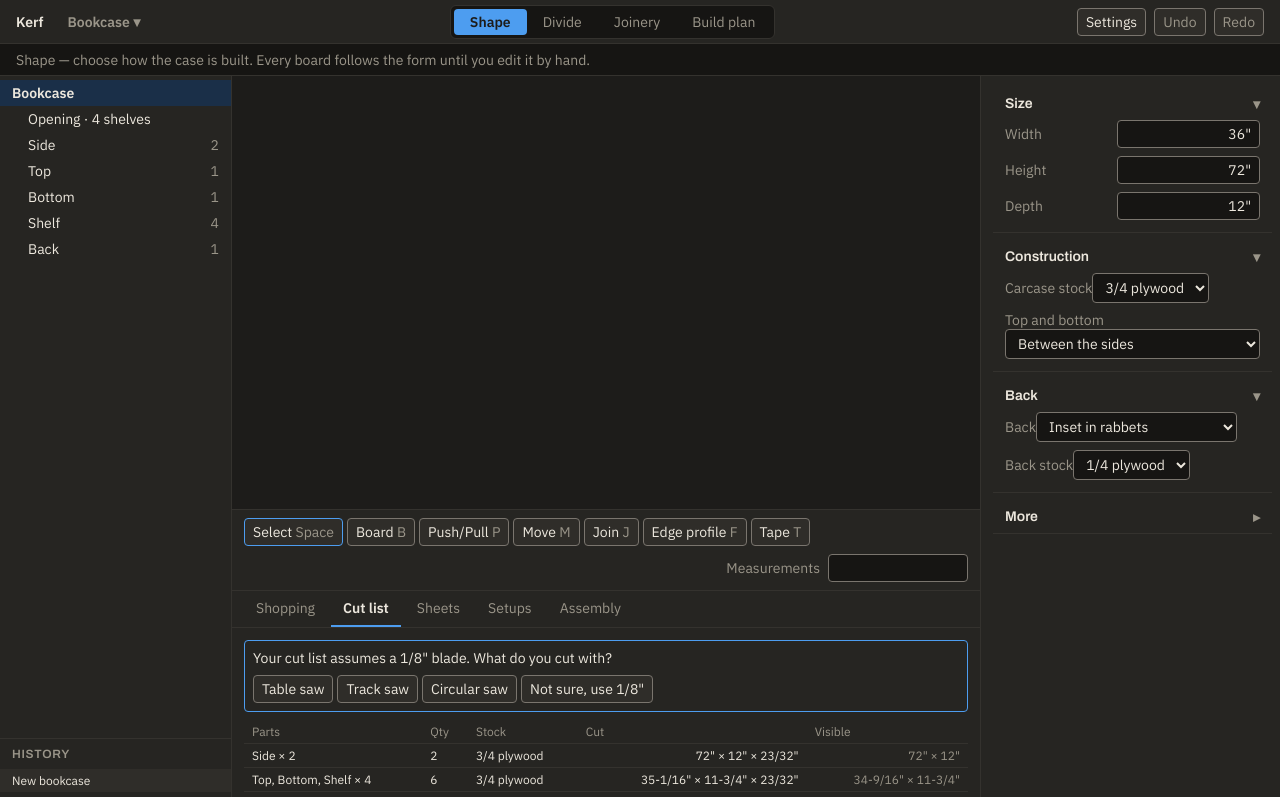
it: <App> › moves to Divide and shows what Divide is for
Step 1. Click the button "Divide" → (562, 22), box [527, 8, 598, 34]
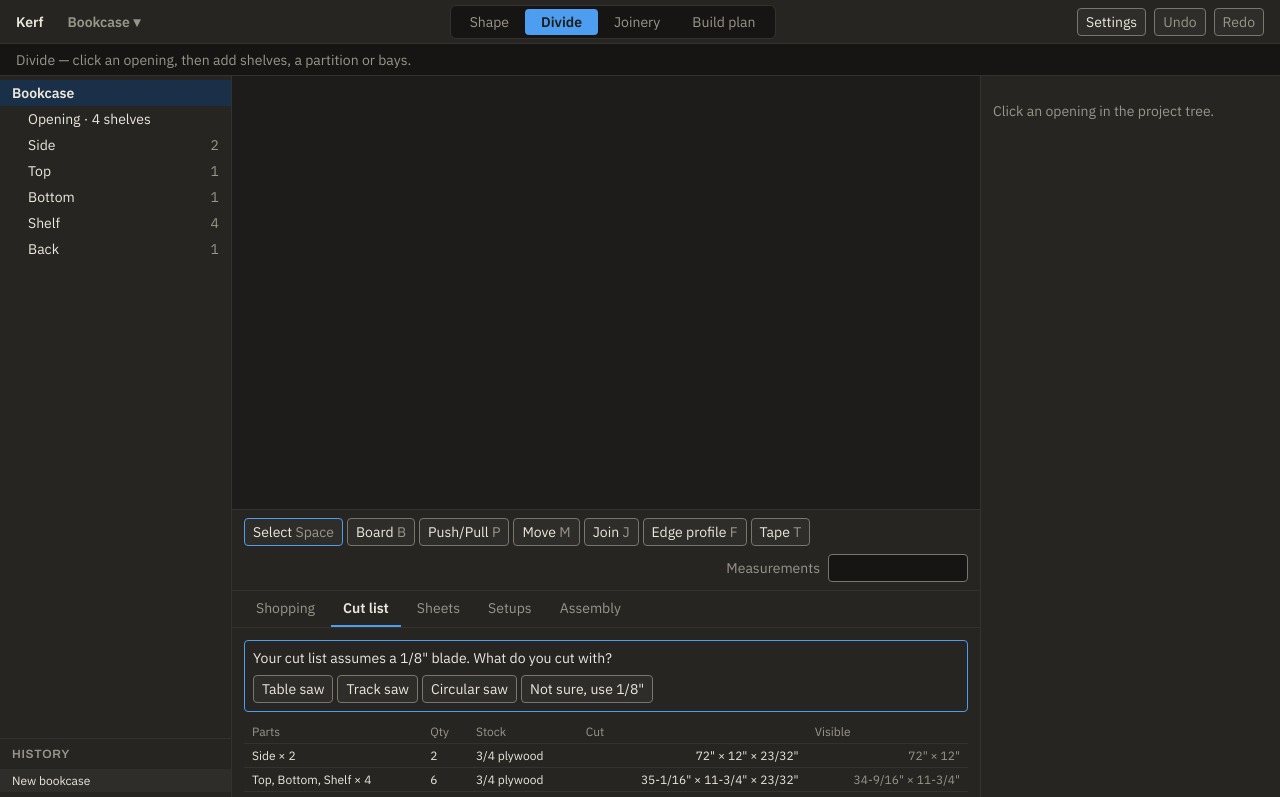
Now the text "Divide — click an opening" is shown, box [16, 51, 411, 69]
